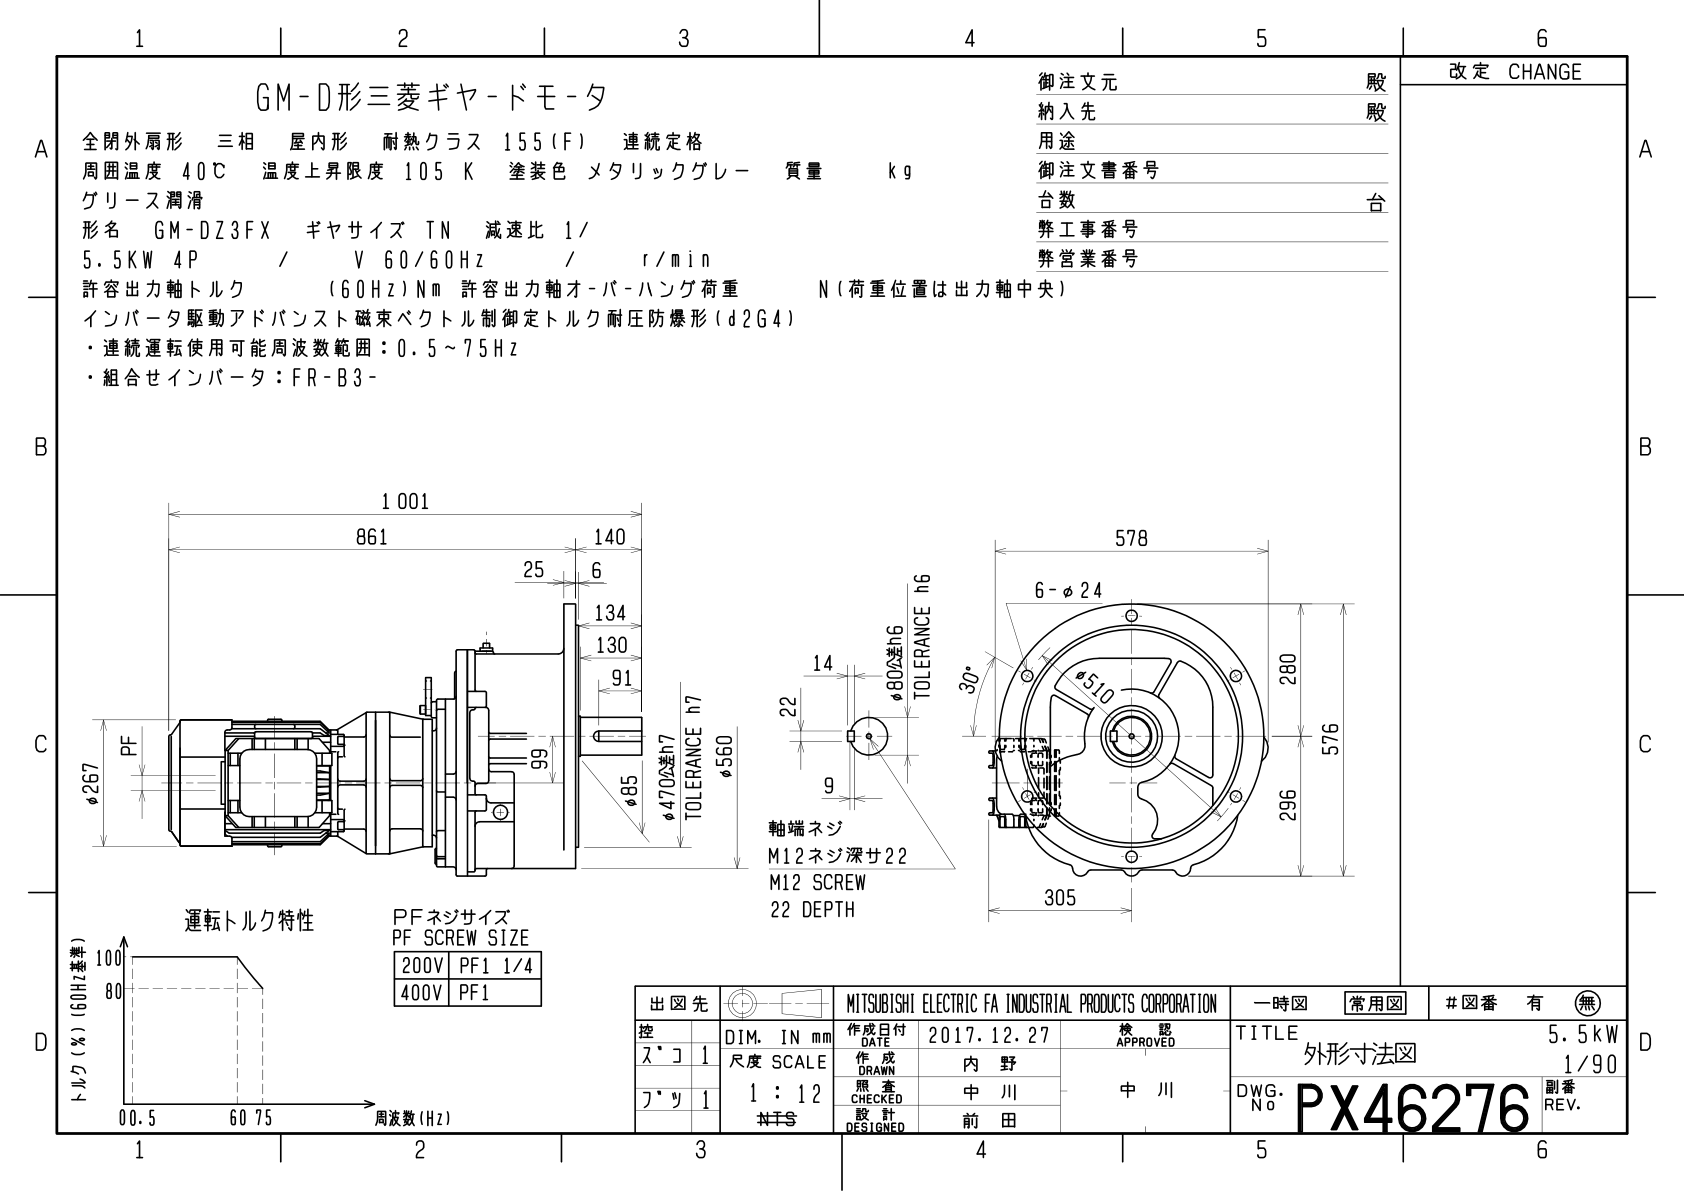GM_D_制御屋内_三相_フランジ: (67, 461, 1385, 978)
